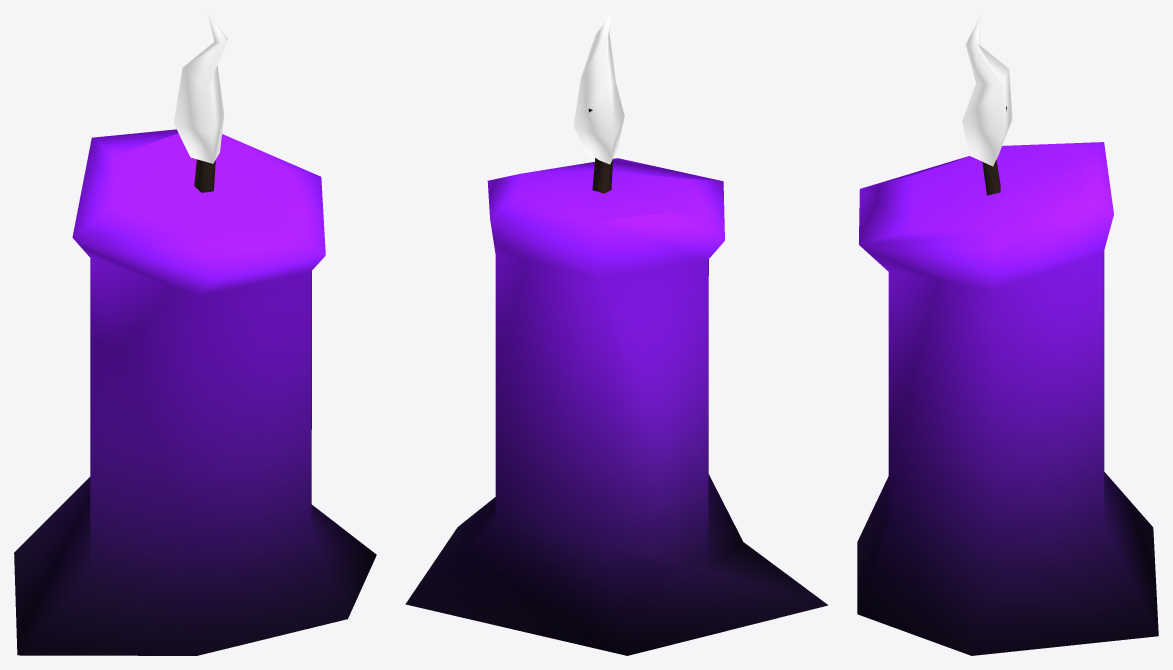
File: CandleShapeD.050.glb
3 views of the same model, side by side, from view 1: azimuth 30°, elevation 25°; view 2: azimuth 150°, elevation 25°; view 3: azimuth 270°, elevation 25° (orthographic). The views are drawn at different scales.
Visible parts, largest first — view 1: CandleShapeD.050; view 2: CandleShapeD.050; view 3: CandleShapeD.050.
Part boxes in pixels (bbox=[...]): CandleShapeD.050: bbox=[14, 15, 376, 655]; CandleShapeD.050: bbox=[405, 14, 828, 655]; CandleShapeD.050: bbox=[857, 14, 1158, 655].
Bounding box in the file's own units: 0.1822 × 0.2697 × 0.1308.
Materials: 2 (2 with a texture image).
